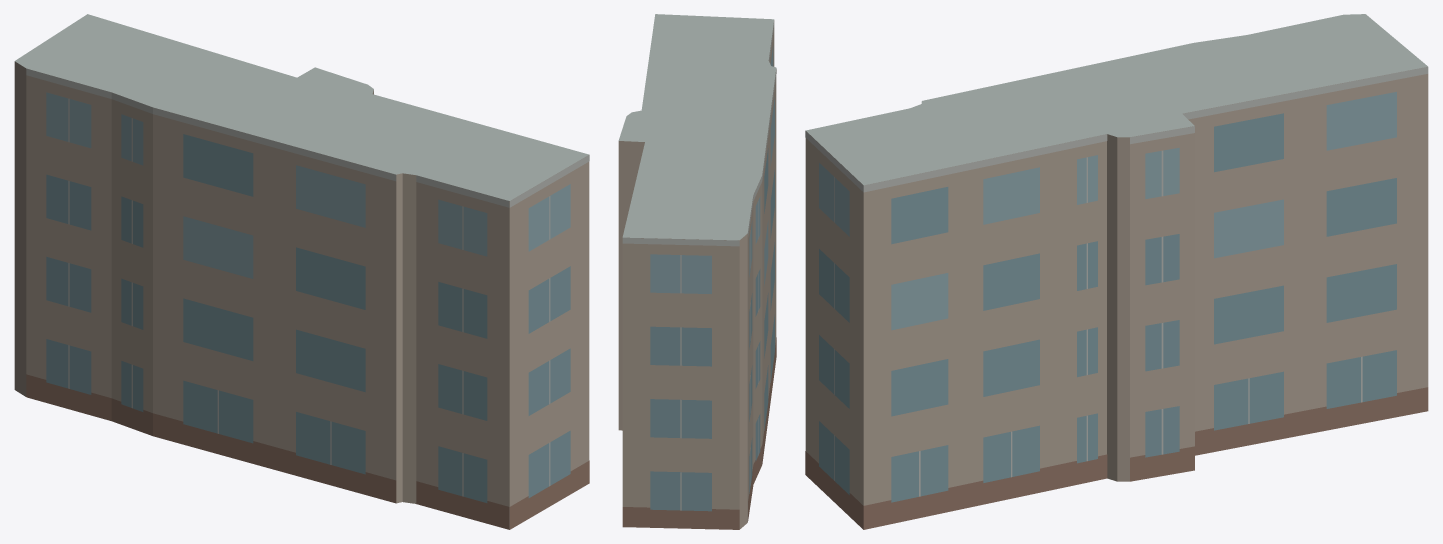
File: survey-upis-32631944.glb
3 renders of one model, left to right at view 1: azimuth 30°, elevation 25°; view 2: azimuth 150°, elevation 25°; view 3: azimuth 270°, elevation 25°, orthographic. The views are drawn at different scales.
Visible parts, largest first — view 1: survey-upis-32631944.tmp; view 2: survey-upis-32631944.tmp; view 3: survey-upis-32631944.tmp.
Part boxes in pixels (x1,y1,x2,y2): survey-upis-32631944.tmp: [14, 14, 589, 529]; survey-upis-32631944.tmp: [618, 14, 776, 529]; survey-upis-32631944.tmp: [805, 14, 1428, 529].
Size of the model in its own units: 12.71 by 11.9 by 19.51.
